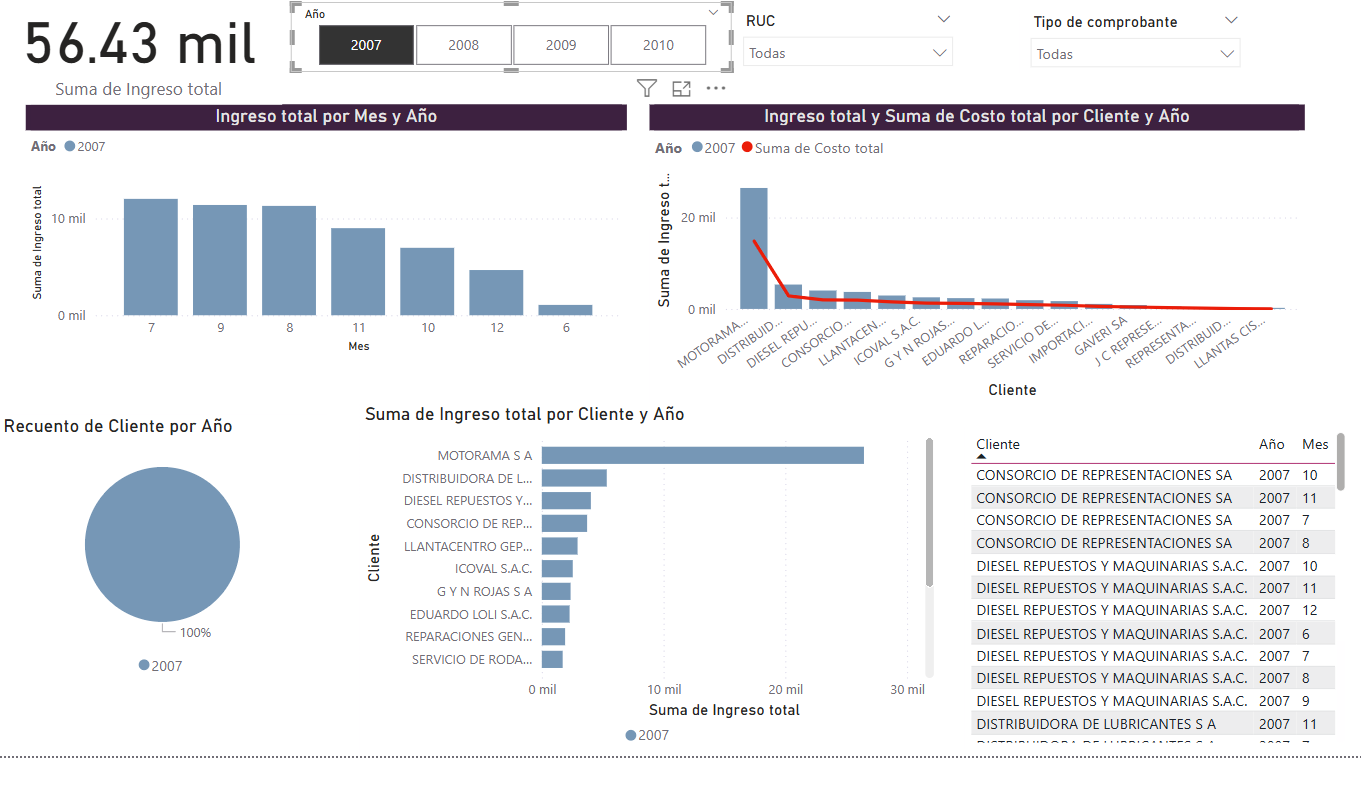

This screenshot's page, from the dashboard's own definition file:
{"tool":"powerbi","page":{"name":"Página 1","canvas":[1280,720],"ordinal":0},"visuals":[{"type":"tableEx","fields":{"Values":["Control-de-Productos.Cliente","Control-de-Productos.Año","Control-de-Productos.Mes"]},"box":[909.3,414,359.3,298.8],"z":0},{"type":"columnChart","title":"Ingreso total por Mes y Año","fields":{"Category":["Control-de-Productos.Mes"],"Y":["Control-de-Productos.Ingreso total"],"Series":["Control-de-Productos.Año"]},"box":[36,114,559.3,236],"z":1000},{"type":"pieChart","fields":{"Category":["Control-de-Productos.Año"],"Y":["Control-de-Productos.Cliente"]},"box":[10.5,402.3,305.8,252.3],"z":2000},{"type":"barChart","fields":{"Category":["Control-de-Productos.Cliente"],"Y":["Control-de-Productos.Ingreso total"],"Series":["Control-de-Productos.Año"]},"box":[346.5,391.9,539.5,327.9],"z":3000},{"type":"lineStackedColumnComboChart","title":"Ingreso total y Suma de Costo total por Cliente y Año","fields":{"Category":["Control-de-Productos.Cliente"],"Y":["Control-de-Productos.Ingreso total"],"Series":["Control-de-Productos.Año"],"Y2":["Control-de-Productos.Costo total"]},"box":[616.3,114,609.3,277.9],"z":4000},{"type":"card","fields":{"Values":["Control-de-Productos.Ingreso total"]},"box":[8.1,7,266.3,107],"z":5000},{"type":"slicer","fields":{"Values":["Control-de-Productos.Año"]},"box":[282.6,18.6,410.5,65.1],"z":6000},{"type":"slicer","fields":{"Values":["Control-de-Productos.RUC"]},"box":[693.2,22.2,215.8,61.7],"z":7000},{"type":"slicer","fields":{"Values":["Control-de-Productos.Tipo de comprobante"]},"box":[960.8,23.4,215.8,61.7],"z":8000}]}

Visuals, with their boxes on the page's 1280x720 design canvas (x1, y1, x2, y2). These are canvas units, not pixel positions in the 1361x800 screenshot, which may show the page scaled, cropped or inside an application window:
tableEx - Control-de-Productos.Cliente x Control-de-Productos.Año: x1=909, y1=414, x2=1269, y2=713
"Ingreso total por Mes y Año" columnChart: x1=36, y1=114, x2=595, y2=350
pieChart - Control-de-Productos.Año x Control-de-Productos.Cliente: x1=10, y1=402, x2=316, y2=655
barChart - Control-de-Productos.Cliente x Control-de-Productos.Ingreso total: x1=346, y1=392, x2=886, y2=720
"Ingreso total y Suma de Costo total por Cliente y Año" lineStackedColumnComboChart: x1=616, y1=114, x2=1226, y2=392
card - Control-de-Productos.Ingreso total: x1=8, y1=7, x2=274, y2=114
slicer - Control-de-Productos.Año: x1=283, y1=19, x2=693, y2=84
slicer - Control-de-Productos.RUC: x1=693, y1=22, x2=909, y2=84
slicer - Control-de-Productos.Tipo de comprobante: x1=961, y1=23, x2=1177, y2=85
